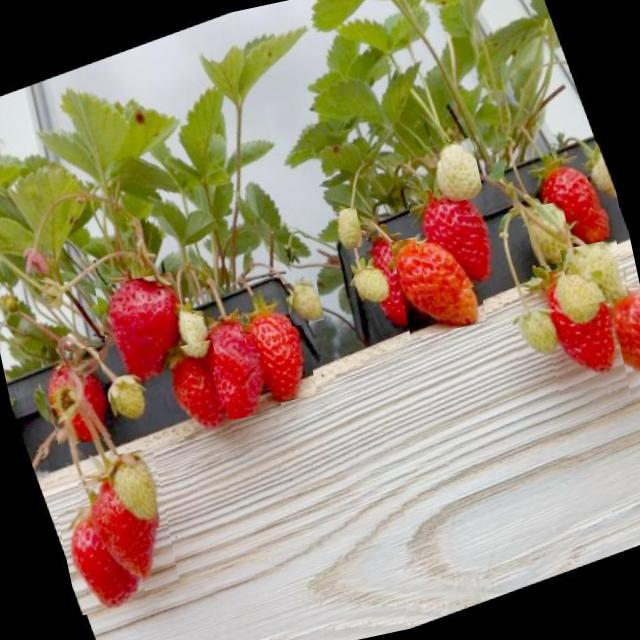ripe: (78, 466, 180, 600), (534, 261, 628, 395), (94, 271, 196, 393), (390, 225, 488, 338), (406, 180, 501, 296), (56, 498, 147, 616), (192, 306, 282, 423), (532, 146, 617, 256), (238, 294, 318, 406), (40, 345, 116, 447), (158, 339, 232, 443), (364, 230, 430, 330), (607, 280, 640, 402)
unripe: (105, 447, 169, 535), (560, 238, 628, 308), (422, 137, 484, 206), (548, 262, 608, 328), (523, 200, 574, 267), (508, 300, 564, 360), (102, 366, 152, 428), (580, 140, 618, 210), (349, 252, 394, 310), (283, 277, 324, 326), (326, 206, 364, 252)
